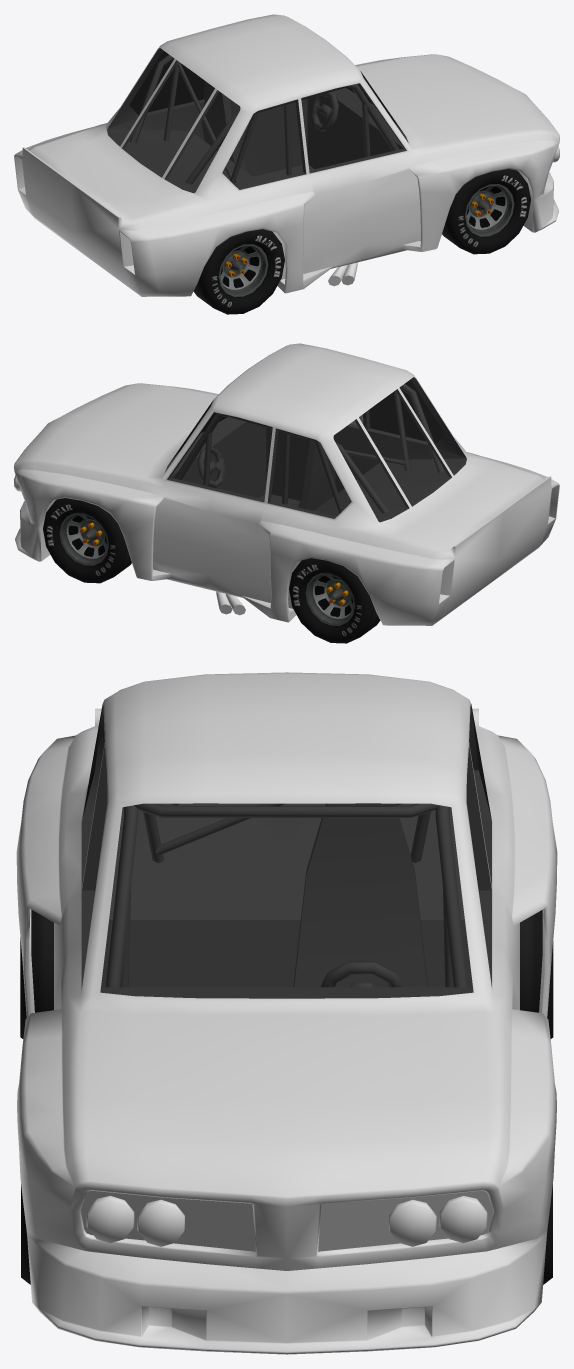
3 renders of one model, top to bottom at view 1: azimuth 30°, elevation 25°; view 2: azimuth 150°, elevation 25°; view 3: azimuth 270°, elevation 25°, orthographic. The views are drawn at different scales.
Visible parts, largest first — view 1: CarBody, Glass, TireRearR, TireFrontR; view 2: CarBody, Glass, TireRearL, TireFrontL; view 3: CarBody, Glass, TireRearR, TireRearL.
Part boxes in pixels (x1,y1,x2,y2): CarBody: (14, 14, 559, 296); Glass: (107, 48, 408, 193); TireRearR: (193, 229, 284, 314); TireFrontR: (442, 169, 530, 254); CarBody: (14, 343, 559, 625); Glass: (165, 377, 466, 522); TireRearL: (289, 558, 380, 643); TireFrontL: (43, 498, 131, 583); CarBody: (16, 672, 557, 1354); Glass: (82, 704, 491, 998); TireRearR: (20, 909, 53, 1038); TireRearL: (520, 910, 553, 1038).
Size of the model in its own units: 253 by 104 by 130.
